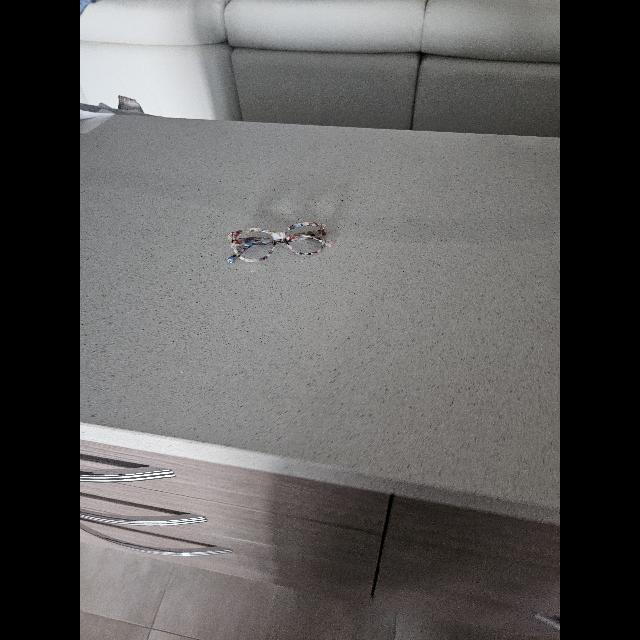glasses: (228, 222, 332, 262)
